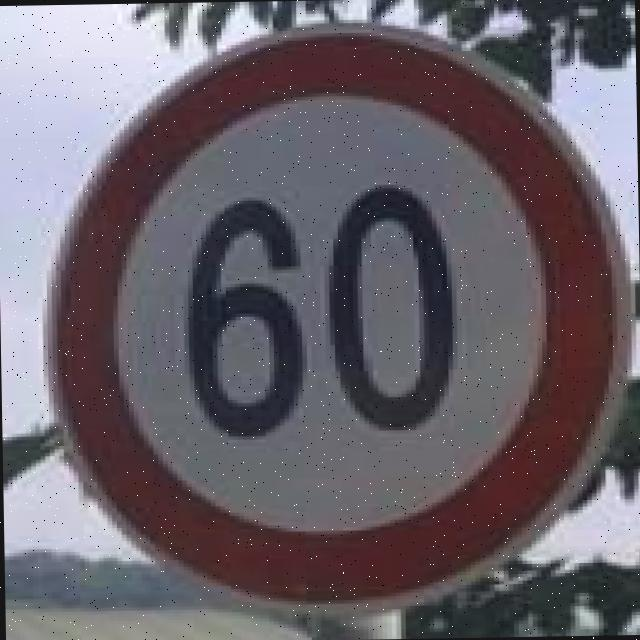Ograniczenie predkosci do 60: (33, 8, 631, 612)
